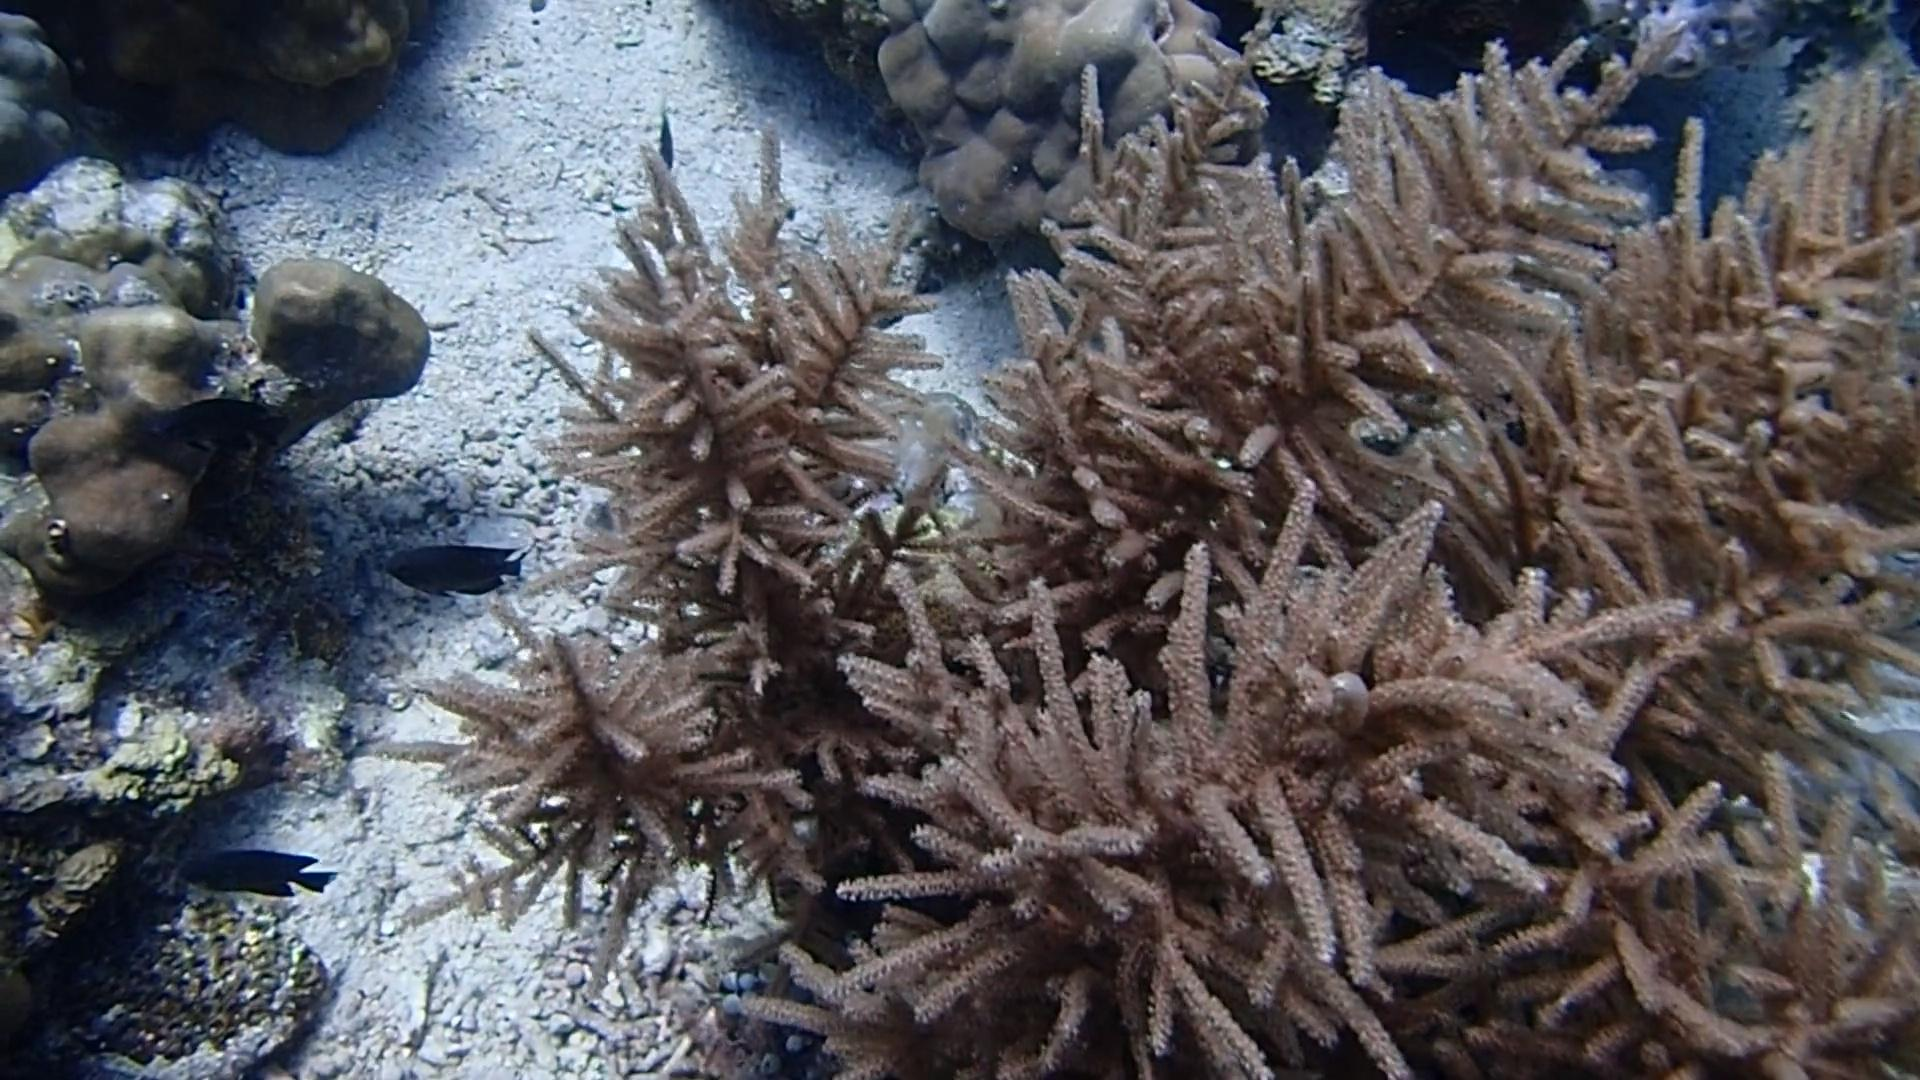Dark Fish: (175, 839, 345, 915), (381, 533, 537, 611), (142, 390, 305, 460)
Yellow Tail: (650, 98, 683, 185)
